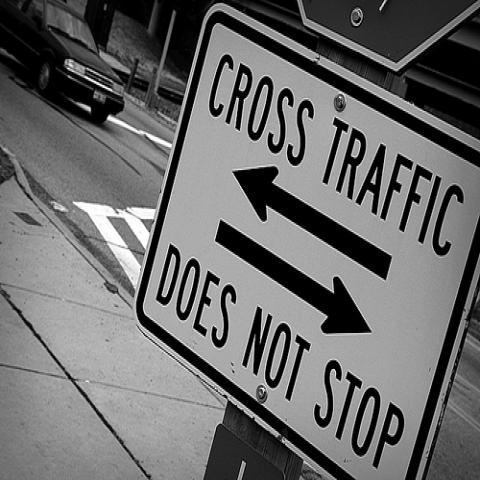car: (1, 0, 126, 132)
